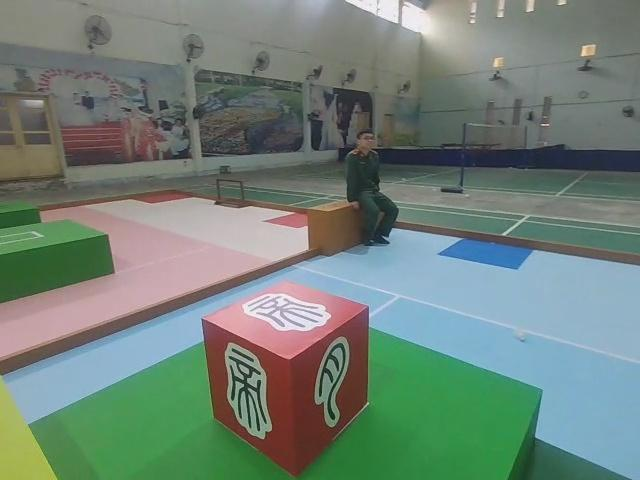R2 Fake: (203, 281, 371, 478)
